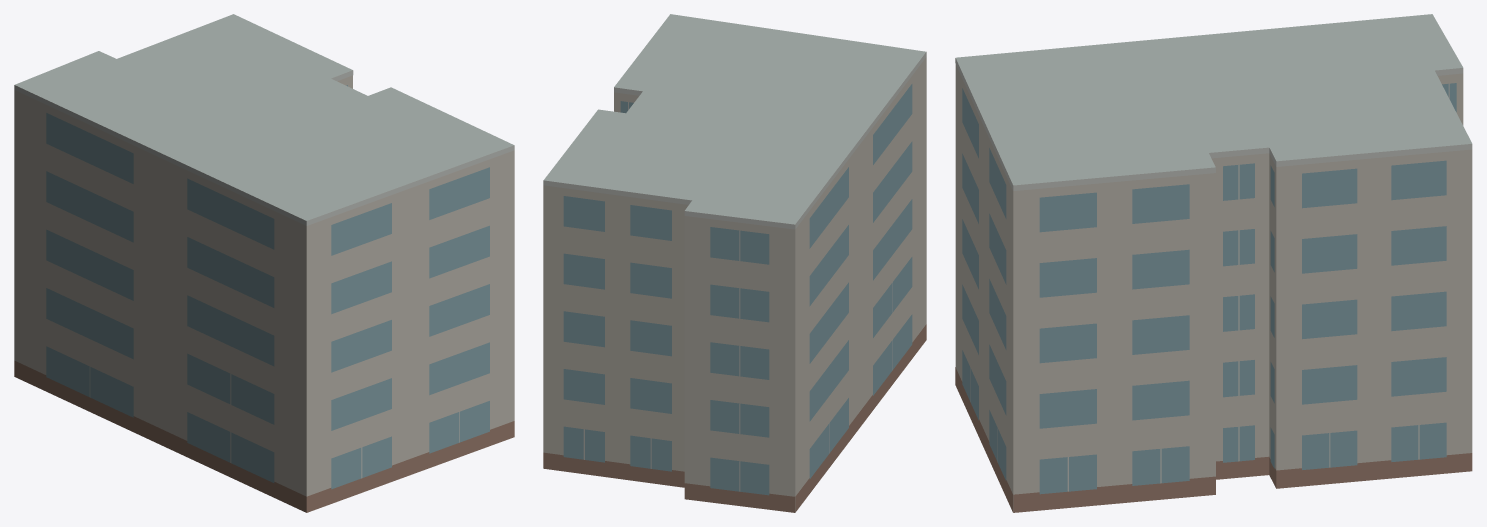
File: survey-upis-32726845.glb
3 views of the same model, side by side, from view 1: azimuth 30°, elevation 25°; view 2: azimuth 150°, elevation 25°; view 3: azimuth 270°, elevation 25° (orthographic). The views are drawn at different scales.
Visible parts, largest first — view 1: survey-upis-32726845.tmp; view 2: survey-upis-32726845.tmp; view 3: survey-upis-32726845.tmp.
Part boxes in pixels (x1=…): survey-upis-32726845.tmp: x1=14, y1=14, x2=514, y2=512; survey-upis-32726845.tmp: x1=543, y1=14, x2=926, y2=512; survey-upis-32726845.tmp: x1=955, y1=14, x2=1472, y2=512.
Size of the model in its own units: 15.91 by 14.16 by 20.27.
